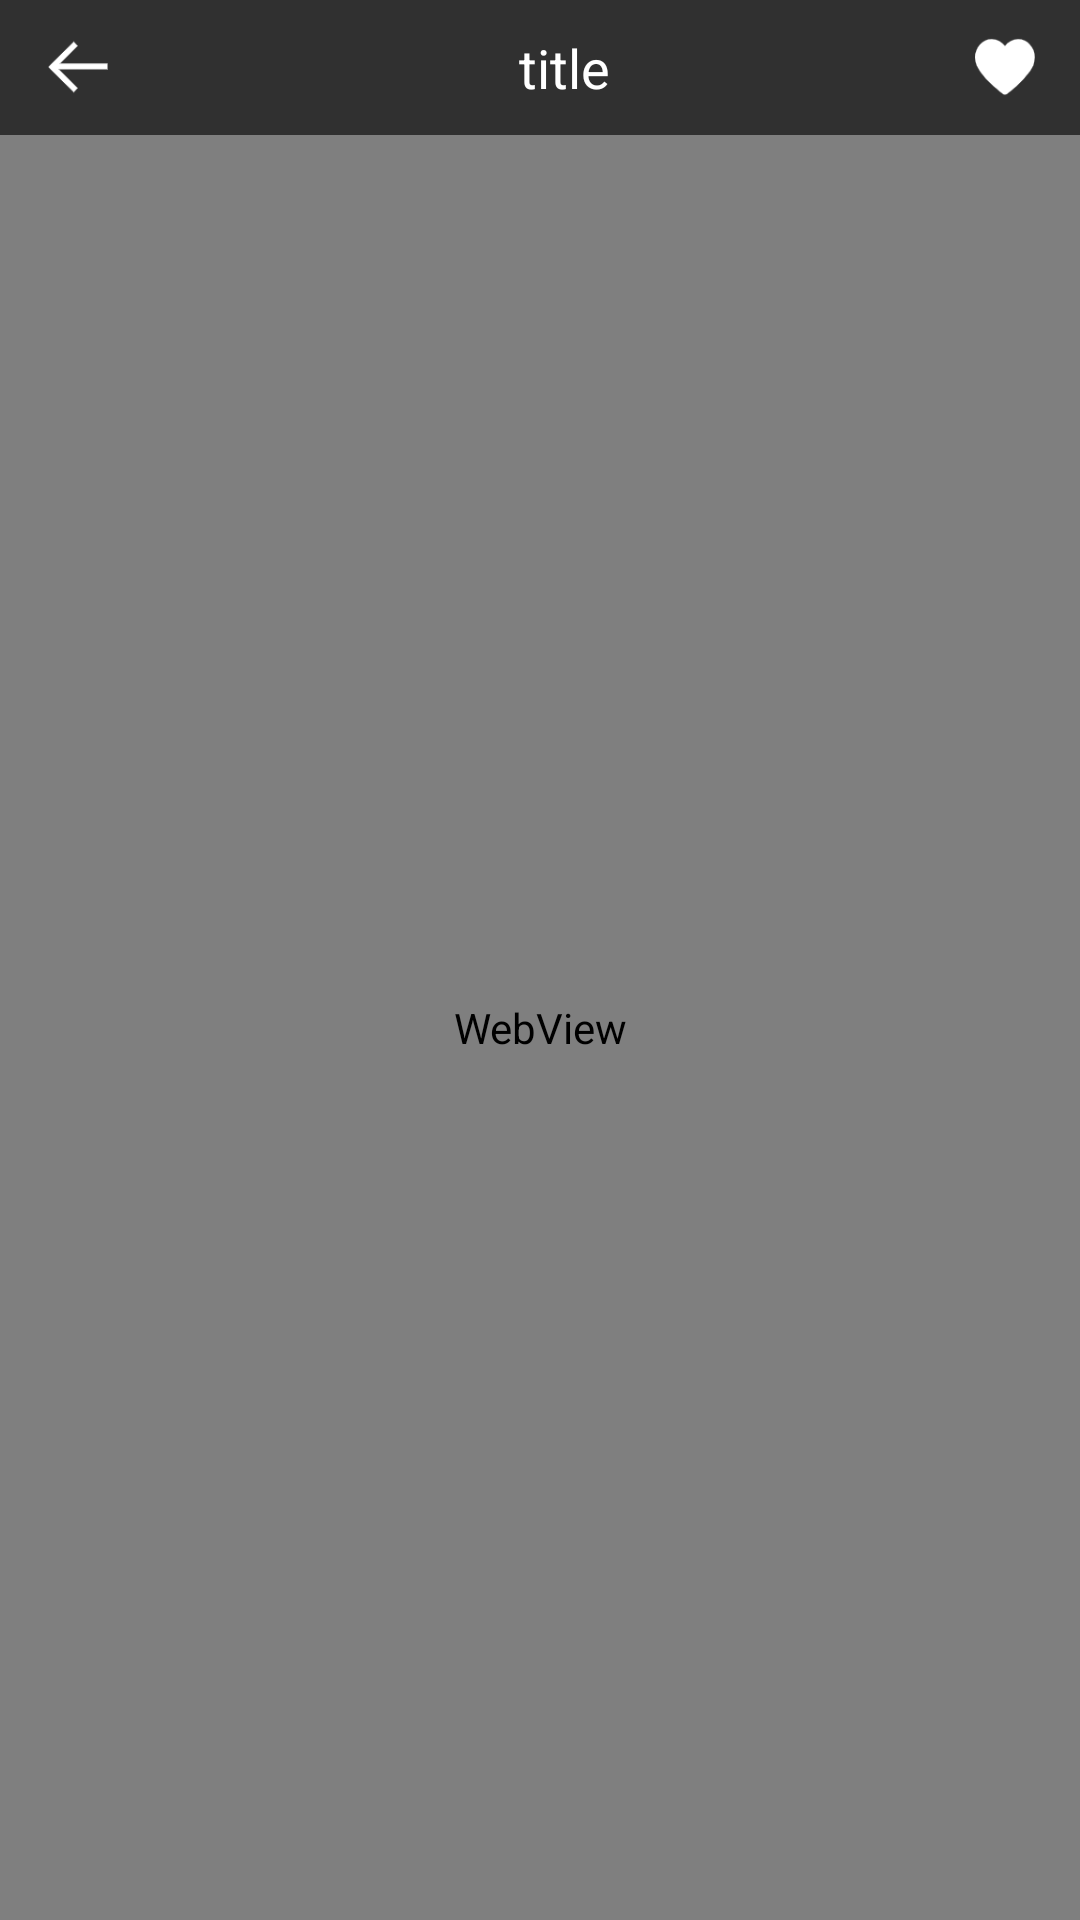

Icon bounding boxes for this 1080×1920 phone screenshot, format (x1, y1, x2, y2):
back: (48, 41, 108, 93)
favorite: (975, 39, 1035, 95)
